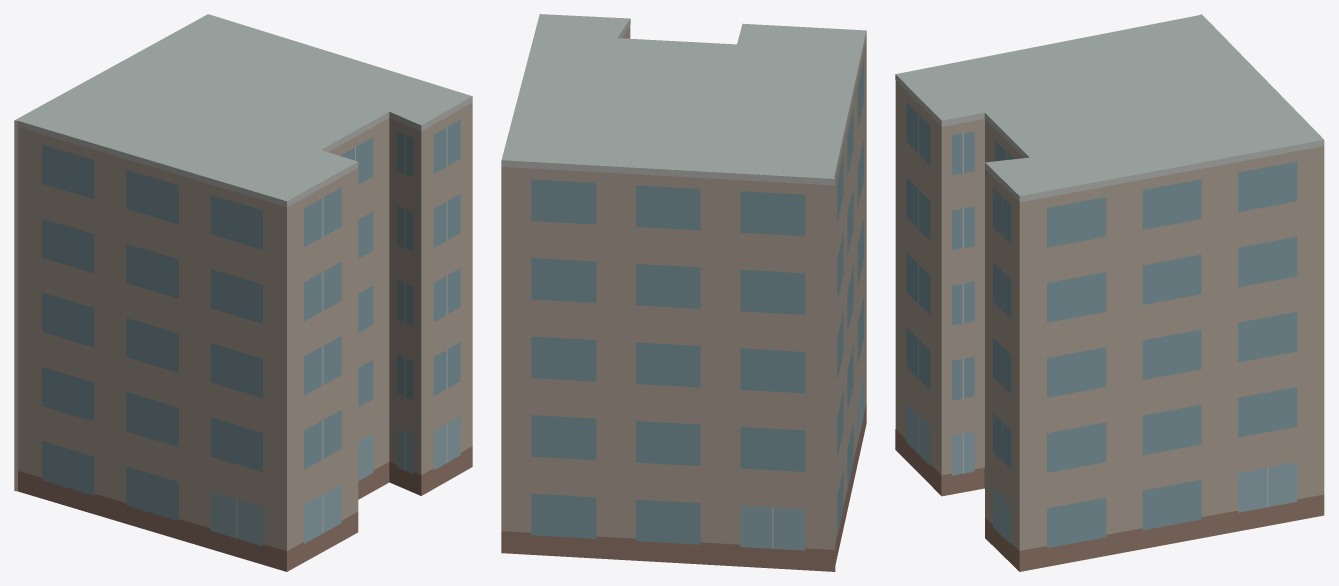
Rendered from survey-upis-32731816.glb.
3 views of the same model, side by side, from view 1: azimuth 30°, elevation 25°; view 2: azimuth 150°, elevation 25°; view 3: azimuth 270°, elevation 25° (orthographic). The views are drawn at different scales.
Parts seen in each view (by area): view 1: survey-upis-32731816.tmp; view 2: survey-upis-32731816.tmp; view 3: survey-upis-32731816.tmp.
Part boxes in pixels (left/top/right/bottom): survey-upis-32731816.tmp: left=14, top=14, right=472, bottom=571; survey-upis-32731816.tmp: left=501, top=14, right=866, bottom=571; survey-upis-32731816.tmp: left=895, top=14, right=1324, bottom=571.
Bounding box in the file's own units: 15.36 × 14.75 × 15.28.
